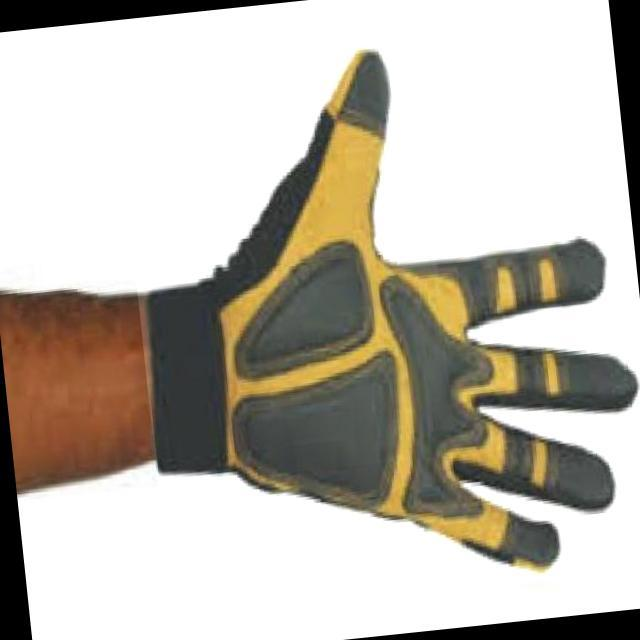Gloves: (113, 42, 640, 581)
